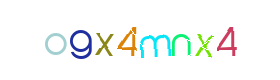4: (100, 0, 180, 80), (188, 0, 268, 80)
G: (67, 0, 147, 80)
M: (114, 0, 194, 80)
N: (140, 0, 220, 80)
O: (41, 0, 121, 80)
X: (79, 0, 159, 80), (164, 0, 244, 80)
